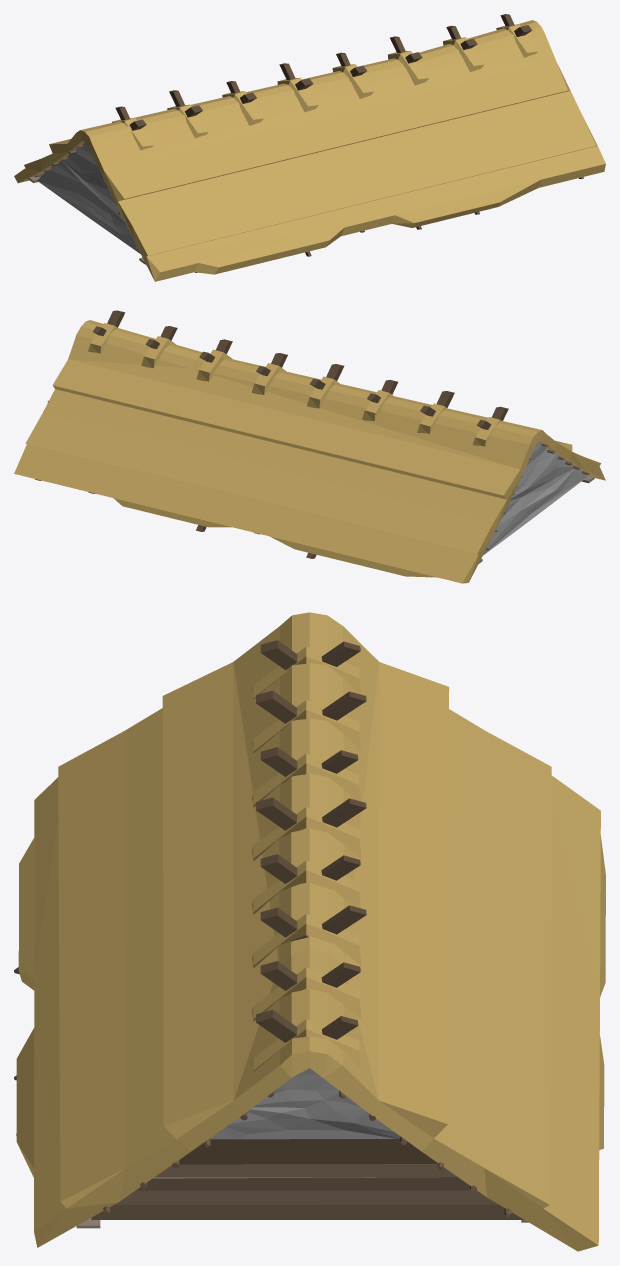
Rendered from EA03_Village_Hut_Roof_01c.fbx.
3 views of the same model, one above another, from view 1: azimuth 30°, elevation 25°; view 2: azimuth 150°, elevation 25°; view 3: azimuth 270°, elevation 25° (orthographic). The views are drawn at different scales.
Parts seen in each view (by area): view 1: EA03_Village_Hut_Roof_01c_LOD0; view 2: EA03_Village_Hut_Roof_01c_LOD0; view 3: EA03_Village_Hut_Roof_01c_LOD0.
Boxes of the visible parts, left/top/right/bottom form: EA03_Village_Hut_Roof_01c_LOD0: left=14, top=14, right=605, bottom=281; EA03_Village_Hut_Roof_01c_LOD0: left=14, top=310, right=605, bottom=583; EA03_Village_Hut_Roof_01c_LOD0: left=14, top=612, right=605, bottom=1251.
Size of what is drawn, in the model's own units: 20.02 by 5.05 by 11.3.
